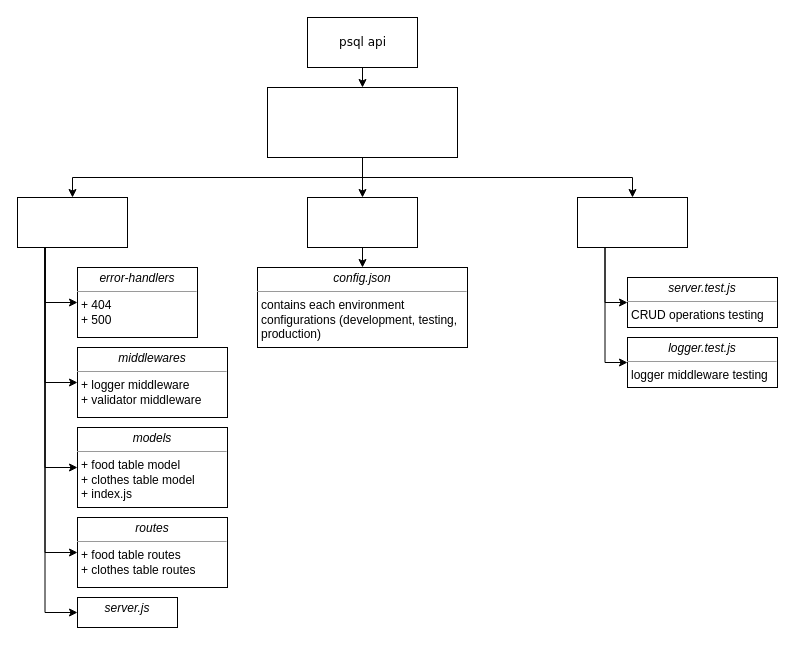
The diagram is 795 pixels wide and 645 high, and some of its shapes have lost their labels. Each missing label, with the box of its shape:
config: (306, 196, 418, 248)
index.js + connects to the db + starts the server: (266, 86, 458, 158)
src: (16, 196, 128, 248)
tests: (576, 196, 688, 248)
